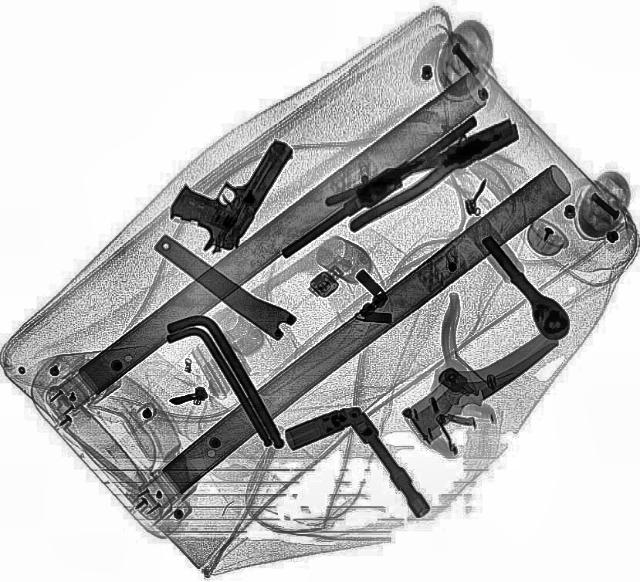Gun: (155, 118, 293, 262)
Pliers: (322, 112, 530, 234)
